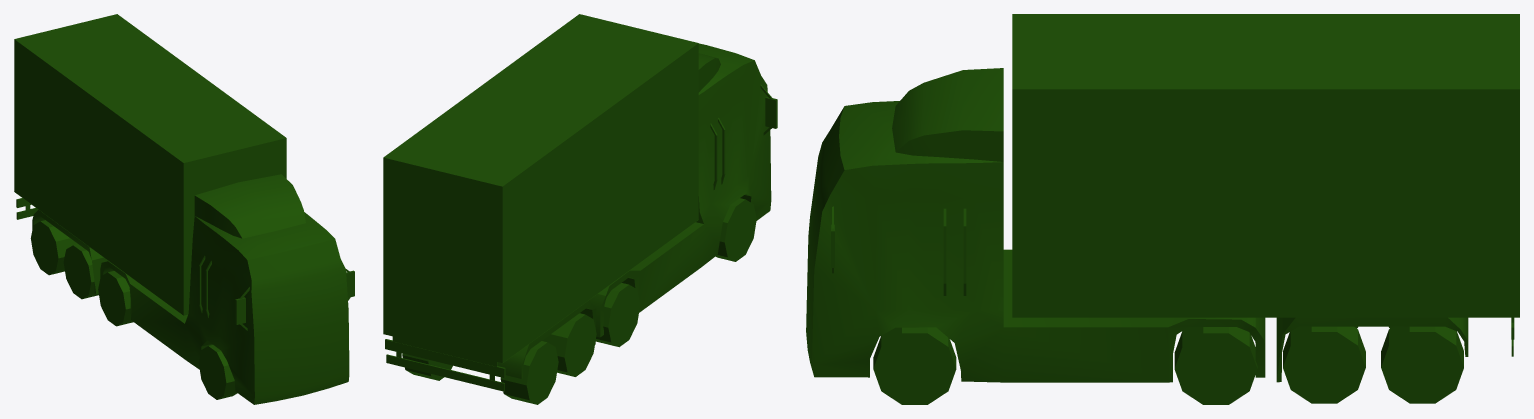
Rendered from Vehicle07A.fbx.
The picture shows the model from 3 angles, left to right: view 1: azimuth 30°, elevation 25°; view 2: azimuth 150°, elevation 25°; view 3: azimuth 270°, elevation 25°; orthographic projection. The views are drawn at different scales.
Visible parts, largest first — view 1: Vehicle07A; view 2: Vehicle07A; view 3: Vehicle07A.
Boxes of the visible parts, x1,y1,x2,y2 form: Vehicle07A: (14, 14, 354, 404); Vehicle07A: (383, 14, 777, 404); Vehicle07A: (806, 14, 1519, 404).
Bounding box in the file's own units: 1.81 × 3.05 × 6.31.
